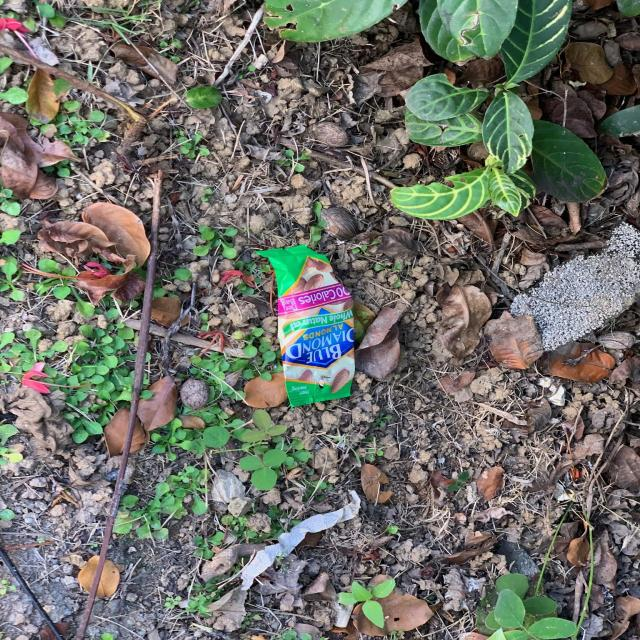litter: (262, 242, 358, 406)
